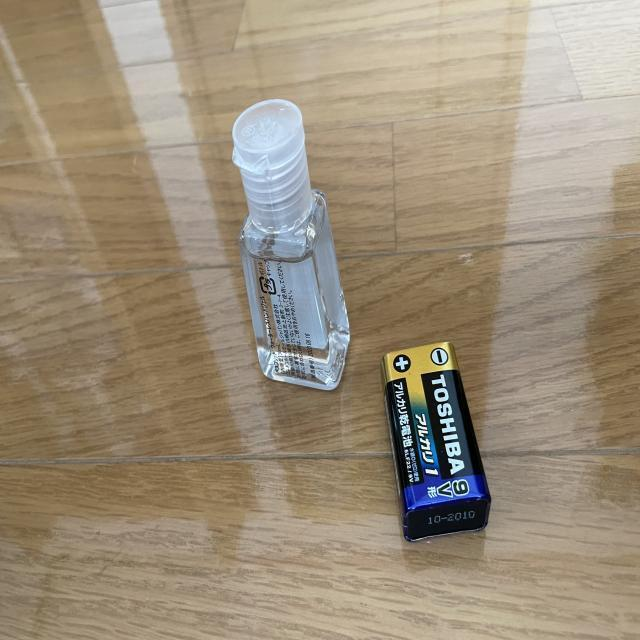9V: (380, 340, 493, 545)
